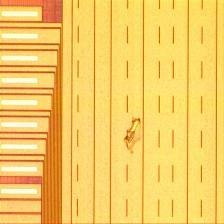COATING BAD: (112, 111, 160, 159)
